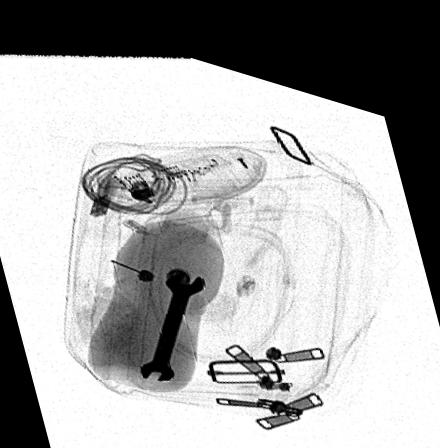Wrench: (139, 256, 207, 373)
